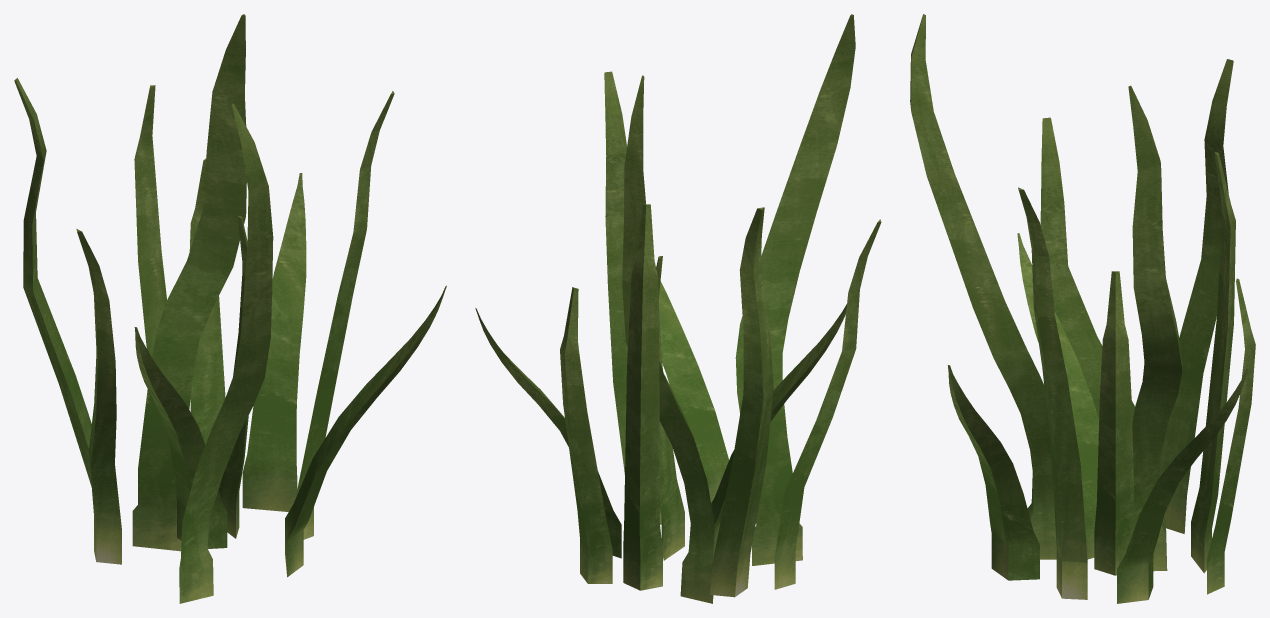
File: Seaweed_02.fbx
3 views of the same model, side by side, from view 1: azimuth 30°, elevation 25°; view 2: azimuth 150°, elevation 25°; view 3: azimuth 270°, elevation 25° (orthographic). The views are drawn at different scales.
Visible parts, largest first — view 1: pCube8, plant (×2), pCube3, pCube12, pCube16, pCube5, pCube10, pCube13, pCube14, pCube9; view 2: pCube3, pCube13, pCube16, pCube8, plant (×2), pCube14, pCube12, pCube5, pCube9, pCube10; view 3: plant (×2), pCube3, pCube8, pCube16, pCube9, pCube5, pCube13, pCube12, pCube10, pCube14.
Boxes of the visible parts, x1,y1,x2,y2 form: pCube8: (132,14,246,551); plant (×2): (242,91,394,539); pCube3: (179,103,273,603); pCube12: (76,228,121,564); pCube16: (14,78,91,486); pCube5: (285,285,446,577); pCube10: (134,327,227,548); pCube13: (134,85,166,356); pCube14: (189,158,225,444); pCube9: (218,216,248,538); pCube3: (735,14,855,565); pCube13: (623,204,662,590); pCube16: (710,207,773,597); pCube8: (622,75,714,603); plant (×2): (475,71,661,558); pCube14: (560,287,612,583); pCube12: (774,219,881,589); pCube5: (658,281,728,502); pCube9: (656,256,684,560); pCube10: (711,304,846,560); plant (×2): (1018,187,1247,603); pCube3: (910,14,1056,559); pCube8: (1128,85,1182,571); pCube16: (1159,59,1233,533); pCube9: (1094,271,1135,575); pCube5: (948,365,1039,580); pCube13: (1191,152,1235,573); pCube12: (1040,117,1134,421); pCube10: (1017,233,1099,559); pCube14: (1207,278,1255,594).
Size of the model in its own units: 112 by 176 by 104.
